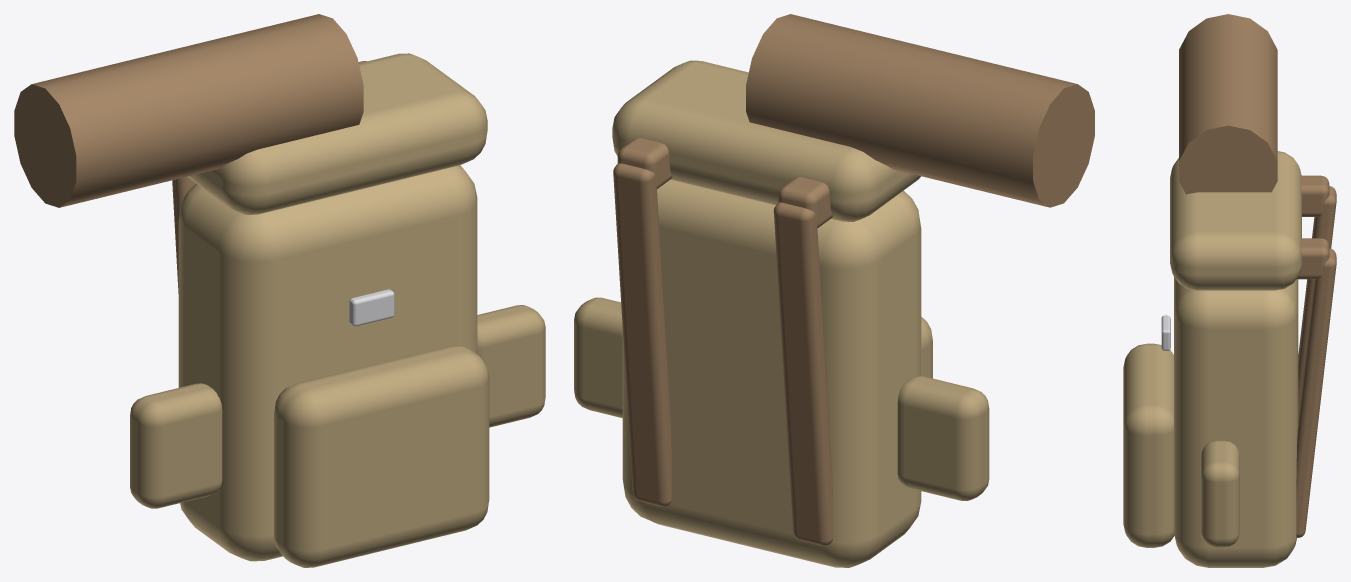
File: backpack.glb
3 views of the same model, side by side, from view 1: azimuth 30°, elevation 25°; view 2: azimuth 150°, elevation 25°; view 3: azimuth 270°, elevation 25° (orthographic). The views are drawn at different scales.
Parts seen in each view (by area): view 1: Backpack; view 2: Backpack; view 3: Backpack.
Part boxes in pixels (x1=…): Backpack: x1=14, y1=14, x2=545, y2=567; Backpack: x1=574, y1=14, x2=1094, y2=567; Backpack: x1=1123, y1=14, x2=1336, y2=567.
Size of the model in its own units: 0.58 by 0.575 by 0.2744.
